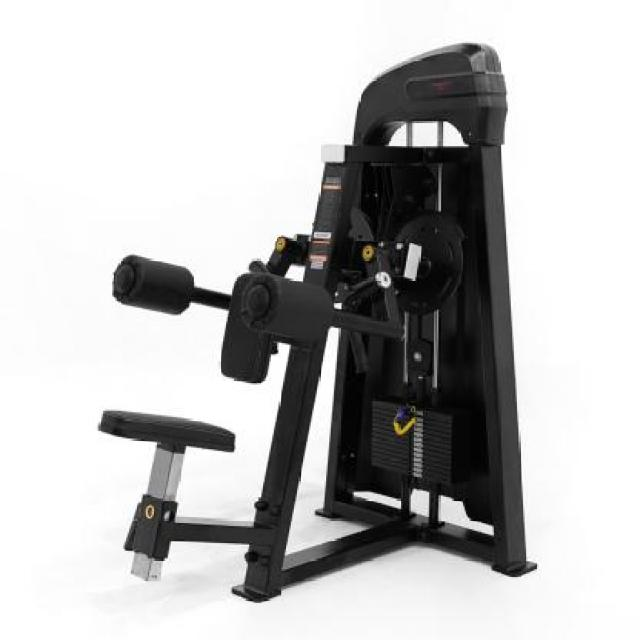lateral raises machine: (94, 37, 540, 601)
